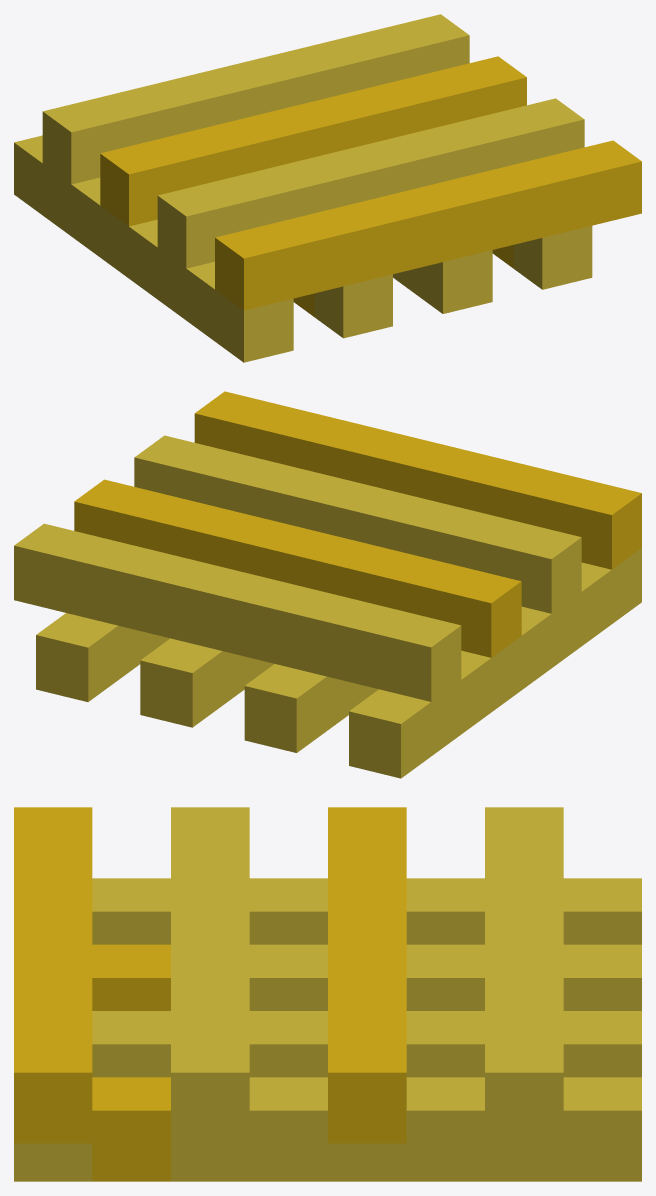
Rendered from CutGold.obj.
3 views of the same model, one above another, from view 1: azimuth 30°, elevation 25°; view 2: azimuth 150°, elevation 25°; view 3: azimuth 270°, elevation 25° (orthographic). The views are drawn at different scales.
Size of the model in its own units: 0.8 by 0.2 by 0.8.
1 material, 1 textured.
